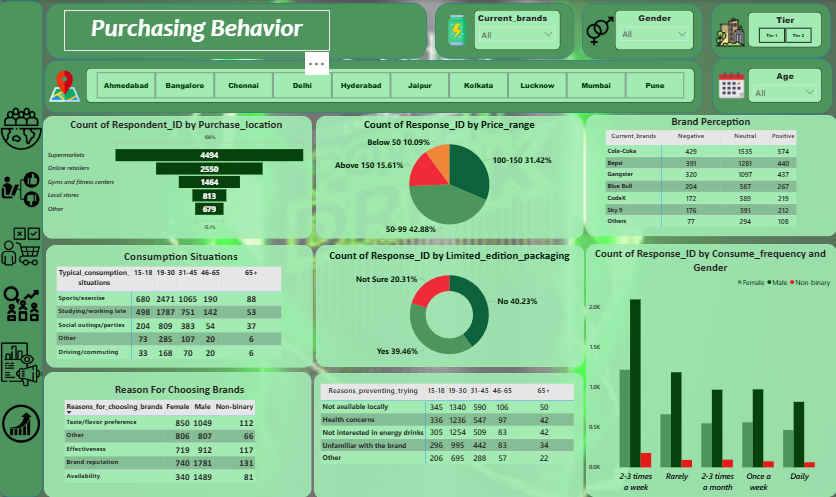

Layout of this report page (visuals, bound fields, positions):
{"tool":"powerbi","page":{"name":"Purchasing Behavior","canvas":[2450,1450],"ordinal":2},"visuals":[{"type":"shape","box":[139.2,8.7,1104.9,162.4],"z":0},{"type":"shape","box":[134,174,1910,154],"z":1000},{"type":"shape","box":[0,0,130,1442],"z":2000},{"type":"shape","box":[1694,8,350,162],"z":3000},{"type":"shape","box":[1266,8,404,162],"z":4000},{"type":"shape","box":[2067.7,8.7,348,159.5],"z":5000},{"type":"shape","box":[2072,168,350,162],"z":6000},{"type":"shape","box":[130,336,780,356],"z":7000},{"type":"shape","box":[134,1078,776,364],"z":8000},{"type":"shape","box":[1706,334,728,352],"z":9000},{"type":"shape","box":[138,710,774,356],"z":10000},{"type":"shape","box":[916,1082,782,366],"z":11000},{"type":"shape","box":[1706,708,728,734],"z":12000},{"type":"clusteredColumnChart","fields":{"Series":["dim_repondents.Gender"],"Y":["CountNonNull(fact_survey_responses.Response_ID)"],"Category":["fact_survey_responses.Consume_frequency"]},"box":[1708,716,716,718],"z":13000},{"type":"shape","box":[922,336,776,356],"z":14000},{"type":"pivotTable","title":"Consumption Situations","fields":{"Rows":["fact_survey_responses.Typical_consumption_situations"],"Values":["CountNonNull(dim_repondents.Respondent_ID)"],"Columns":["dim_repondents.Age"]},"box":[166,722,730,360],"z":15000},{"type":"slicer","fields":{"Values":["dim_cities.City"]},"box":[254,198,1764,100],"z":16000},{"type":"slicer","title":"Age","fields":{"Values":["dim_repondents.Age"]},"box":[2176,198,214,100],"z":17000},{"type":"slicer","title":"Tier","fields":{"Values":["dim_cities.Tier"]},"box":[2176,36,214,102],"z":18000},{"type":"slicer","title":"Gender","fields":{"Values":["dim_repondents.Gender"]},"box":[1790,30,228,116],"z":19000},{"type":"slicer","title":"Current_brands","fields":{"Values":["fact_survey_responses.Current_brands"]},"box":[1380,28,250,116],"z":20000},{"type":"textbox","box":[192,30,770,118],"z":21000},{"type":"funnel","fields":{"Category":["fact_survey_responses.Purchase_location"],"Y":["CountNonNull(fact_survey_responses.Respondent_ID)"]},"box":[140,342,756,332],"z":22000},{"type":"pieChart","fields":{"Y":["CountNonNull(fact_survey_responses.Response_ID)"],"Series":["fact_survey_responses.Price_range"]},"box":[930,342,756,346],"z":23000},{"type":"pivotTable","title":"Reason For Choosing Brands","fields":{"Rows":["fact_survey_responses.Reasons_for_choosing_brands"],"Columns":["dim_repondents.Gender"],"Values":["CountNonNull(dim_repondents.Respondent_ID)"]},"box":[188,1112,676,308],"z":24000},{"type":"shape","box":[922,710,778,354],"z":25000},{"type":"donutChart","fields":{"Y":["CountNonNull(fact_survey_responses.Response_ID)"],"Category":["fact_survey_responses.Limited_edition_packaging"]},"box":[930,722,756,342],"z":26000},{"type":"pivotTable","fields":{"Rows":["fact_survey_responses.Reasons_preventing_trying"],"Values":["CountNonNull(dim_repondents.Respondent_ID)"],"Columns":["dim_repondents.Age"]},"box":[930,1108,756,318],"z":27000},{"type":"pivotTable","title":"Brand Perception","fields":{"Rows":["fact_survey_responses.Current_brands"],"Values":["CountNonNull(dim_repondents.Respondent_ID)"],"Columns":["fact_survey_responses.Brand_perception"]},"box":[1758,334,620,350],"z":28000},{"type":"image","box":[0,817.6,134.4,126],"z":29000},{"type":"image","box":[2.8,1167.6,128.8,120.4],"z":30000},{"type":"image","box":[1283.2,33.6,98,106.4],"z":31000},{"type":"image","box":[2076,40,96,104],"z":32000},{"type":"image","box":[1699.4,43.5,92.8,92.8],"z":33000},{"type":"image","box":[2082,200,90,94],"z":34000},{"type":"image","box":[142,200,102,100],"z":35000},{"type":"image","box":[2.8,308,128.8,131.6],"z":36000},{"type":"image","box":[0,487.2,130.5,124.7],"z":37000},{"type":"image","box":[0,652.5,130.5,124.7],"z":38000},{"type":"image","box":[0,985.6,137.2,140],"z":39000}]}

Visuals, with their boxes in screenshot pixels (x1, y1, x2, y2), scaled from the page's 2450x1450 canvas onto the 836x497 screenshot:
shape: left=47, top=3, right=425, bottom=59
shape: left=46, top=60, right=697, bottom=112
shape: left=0, top=0, right=44, bottom=494
shape: left=578, top=3, right=697, bottom=58
shape: left=432, top=3, right=570, bottom=58
shape: left=706, top=3, right=824, bottom=58
shape: left=707, top=58, right=826, bottom=113
shape: left=44, top=115, right=311, bottom=237
shape: left=46, top=369, right=311, bottom=494
shape: left=582, top=114, right=831, bottom=235
shape: left=47, top=243, right=311, bottom=365
shape: left=313, top=371, right=579, bottom=496
shape: left=582, top=243, right=831, bottom=494
clusteredColumnChart - dim_repondents.Gender x CountNonNull(fact_survey_responses.Response_ID): left=583, top=245, right=827, bottom=492
shape: left=315, top=115, right=579, bottom=237
"Consumption Situations" pivotTable: left=57, top=247, right=306, bottom=371
slicer - dim_cities.City: left=87, top=68, right=689, bottom=102
"Age" slicer: left=743, top=68, right=816, bottom=102
"Tier" slicer: left=743, top=12, right=816, bottom=47
"Gender" slicer: left=611, top=10, right=689, bottom=50
"Current_brands" slicer: left=471, top=10, right=556, bottom=49
textbox: left=66, top=10, right=328, bottom=51
funnel - fact_survey_responses.Purchase_location x CountNonNull(fact_survey_responses.Respondent_ID): left=48, top=117, right=306, bottom=231
pieChart - CountNonNull(fact_survey_responses.Response_ID) x fact_survey_responses.Price_range: left=317, top=117, right=575, bottom=236
"Reason For Choosing Brands" pivotTable: left=64, top=381, right=295, bottom=487
shape: left=315, top=243, right=580, bottom=365
donutChart - CountNonNull(fact_survey_responses.Response_ID) x fact_survey_responses.Limited_edition_packaging: left=317, top=247, right=575, bottom=365
pivotTable - fact_survey_responses.Reasons_preventing_trying x CountNonNull(dim_repondents.Respondent_ID): left=317, top=380, right=575, bottom=489
"Brand Perception" pivotTable: left=600, top=114, right=811, bottom=234
image: left=0, top=280, right=46, bottom=323
image: left=1, top=400, right=45, bottom=441
image: left=438, top=12, right=471, bottom=48
image: left=708, top=14, right=741, bottom=49
image: left=580, top=15, right=612, bottom=47
image: left=710, top=69, right=741, bottom=101
image: left=48, top=69, right=83, bottom=103
image: left=1, top=106, right=45, bottom=151
image: left=0, top=167, right=45, bottom=210
image: left=0, top=224, right=45, bottom=266
image: left=0, top=338, right=47, bottom=386
